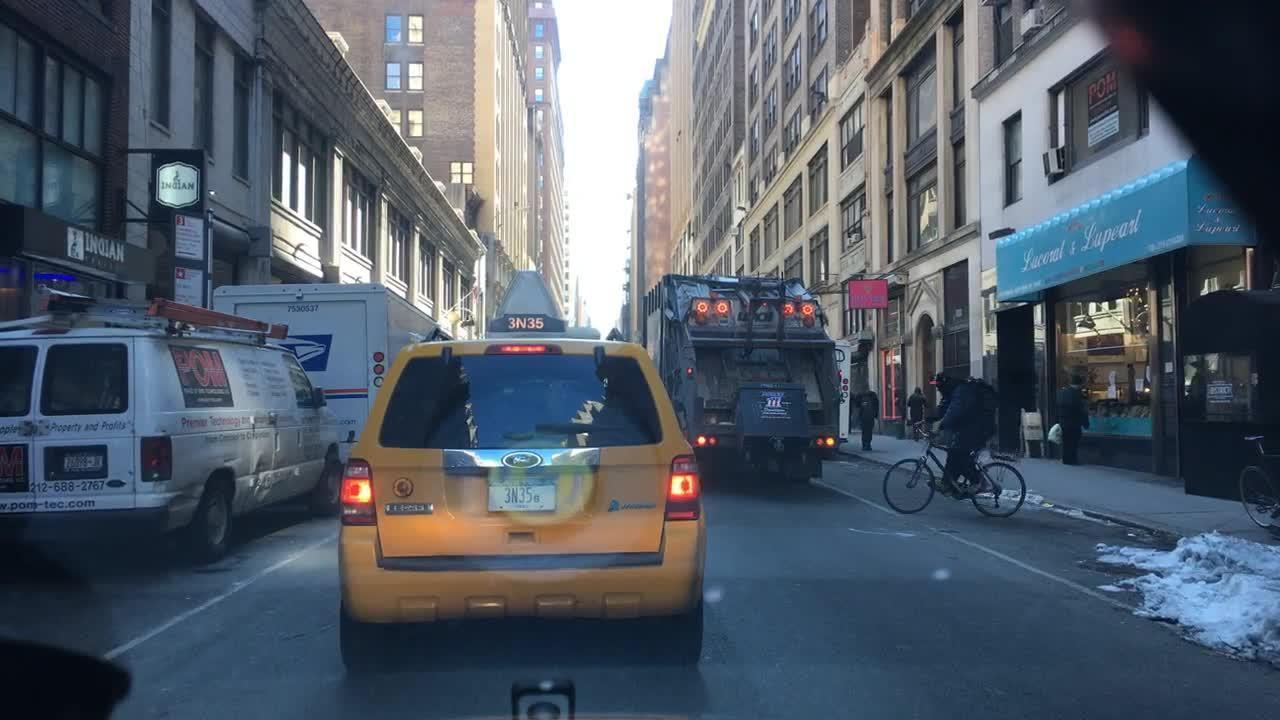ford: (501, 451, 545, 471)
